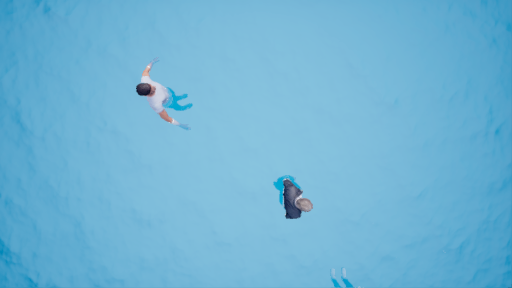person: (132, 54, 201, 128), (270, 168, 326, 228)
